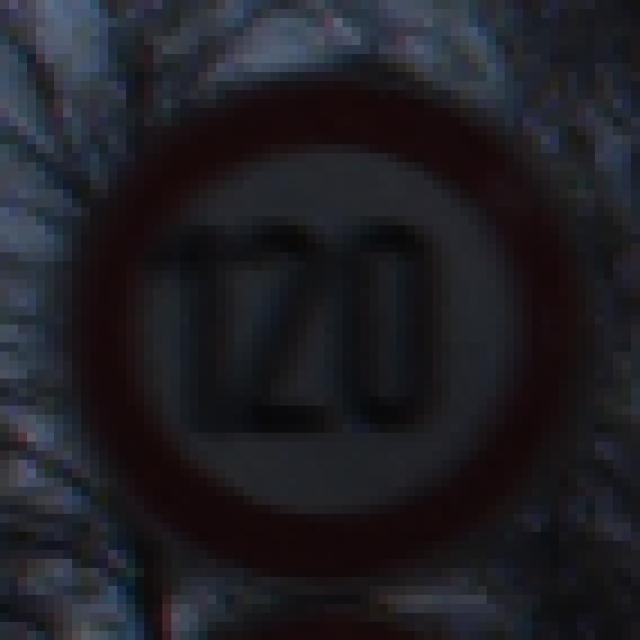Ograniczenie predkosci do 120: (63, 75, 580, 583)
